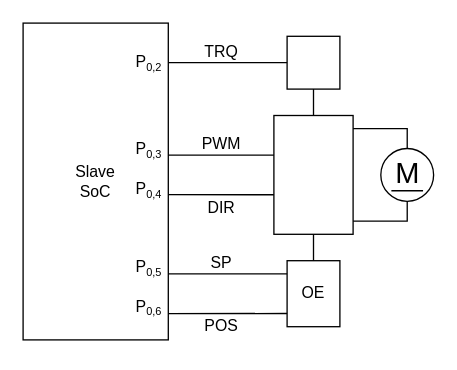
The diagram is 457 pixels wide and 370 high, and some of its shapes have lost their labels. The shapes that lost their labels are listed below. From the top down, each one's centre as x and y in pixels, then its label:
At (313,62): "TS".
At (313,174): "EE DC".
